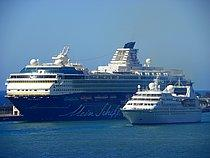Ship: (5, 39, 195, 124), (119, 79, 208, 129)
